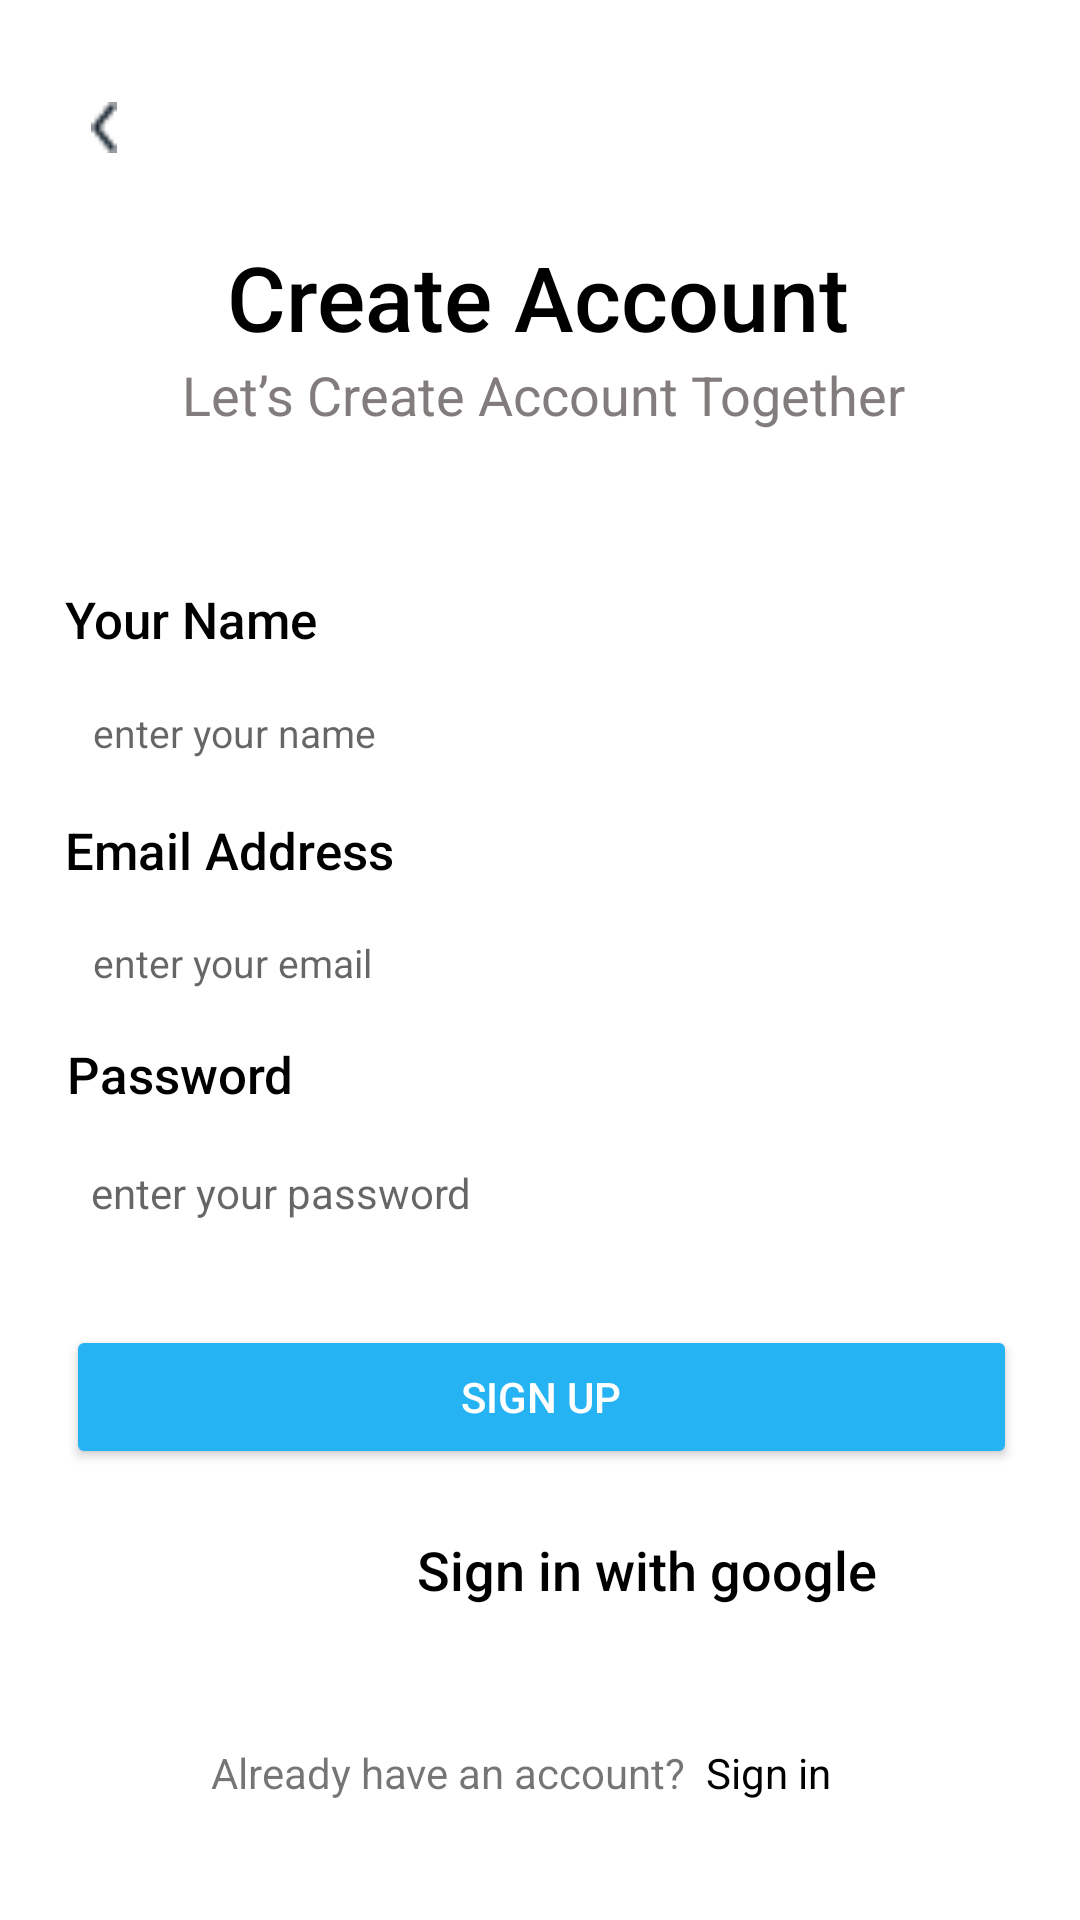

Where to tap for icons on this 1080 x 1920 app screen, as point (x, y):
back: point (104, 127)
